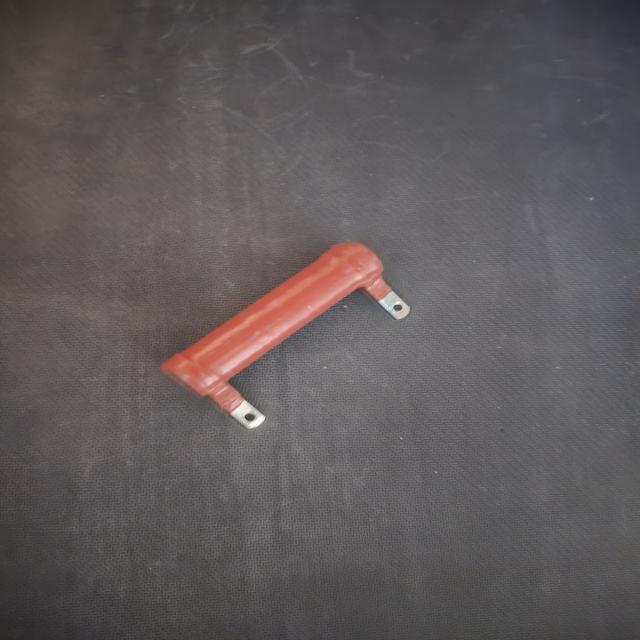resistor: (154, 233, 425, 435)
